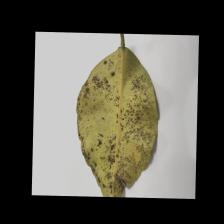canker: (123, 90, 155, 146)
